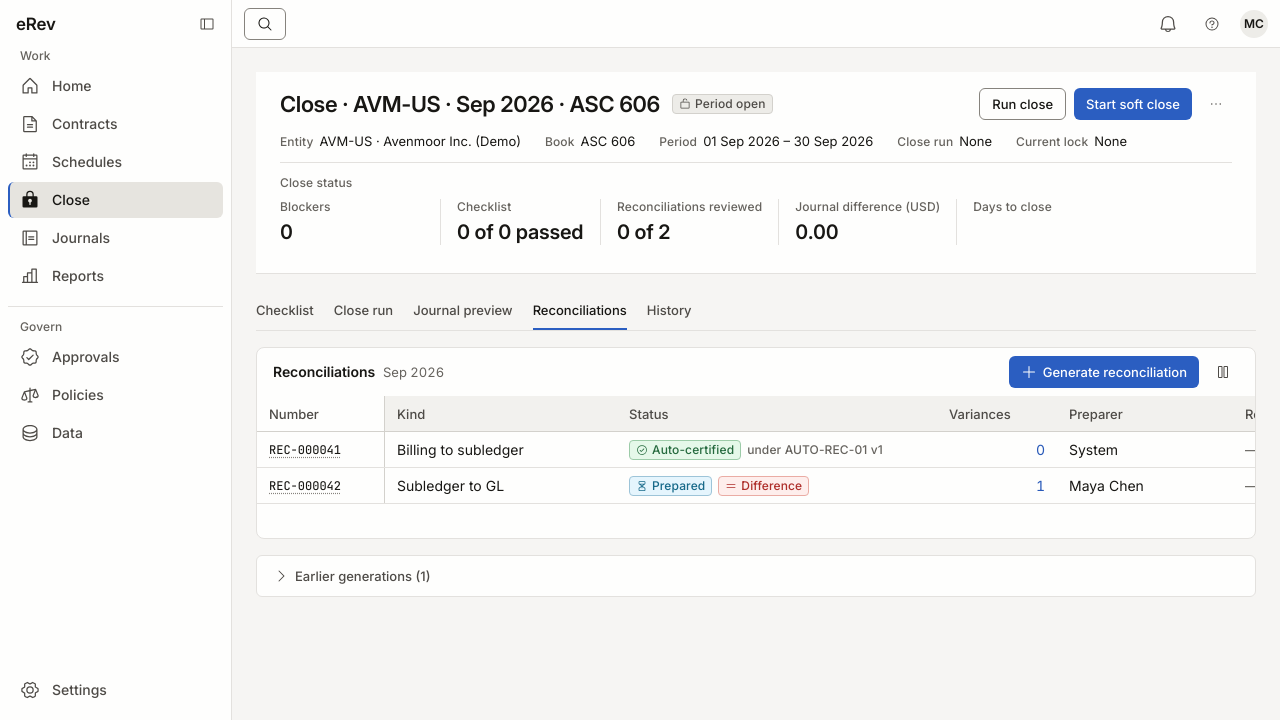
SF-05:reconciliations › lists the current reconciliation of each kind with chips, variances and sign-offs
Expected: the heading "Close · AVM-US · Sep 2026 · ASC 606" is shown, [280,90,660,118]
Expected: the number of rows is 3, [257,396,1255,432]; [257,432,1255,468]; [257,468,1255,504]
Click the button "Earlier generations (1)". click: (352, 576)
box: [261,560,442,592]
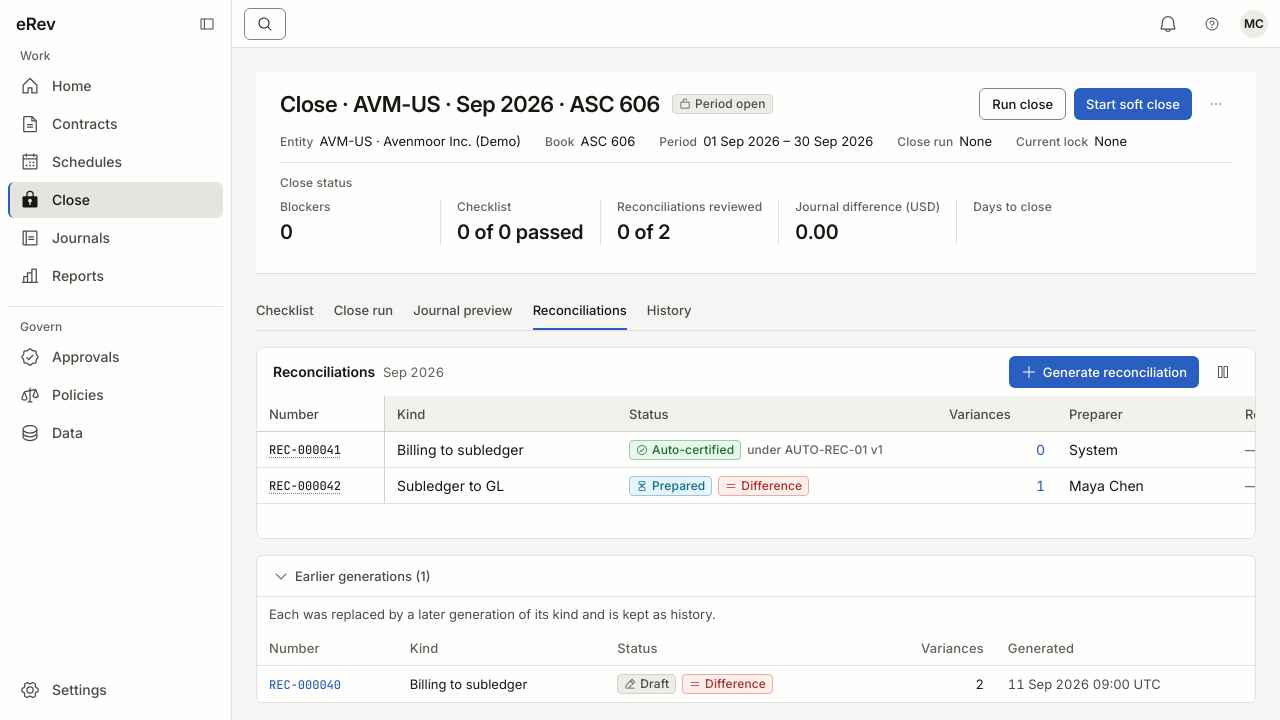
Now the table named "Earlier generations (1)" shows "Draft", box [640,676,669,691]
